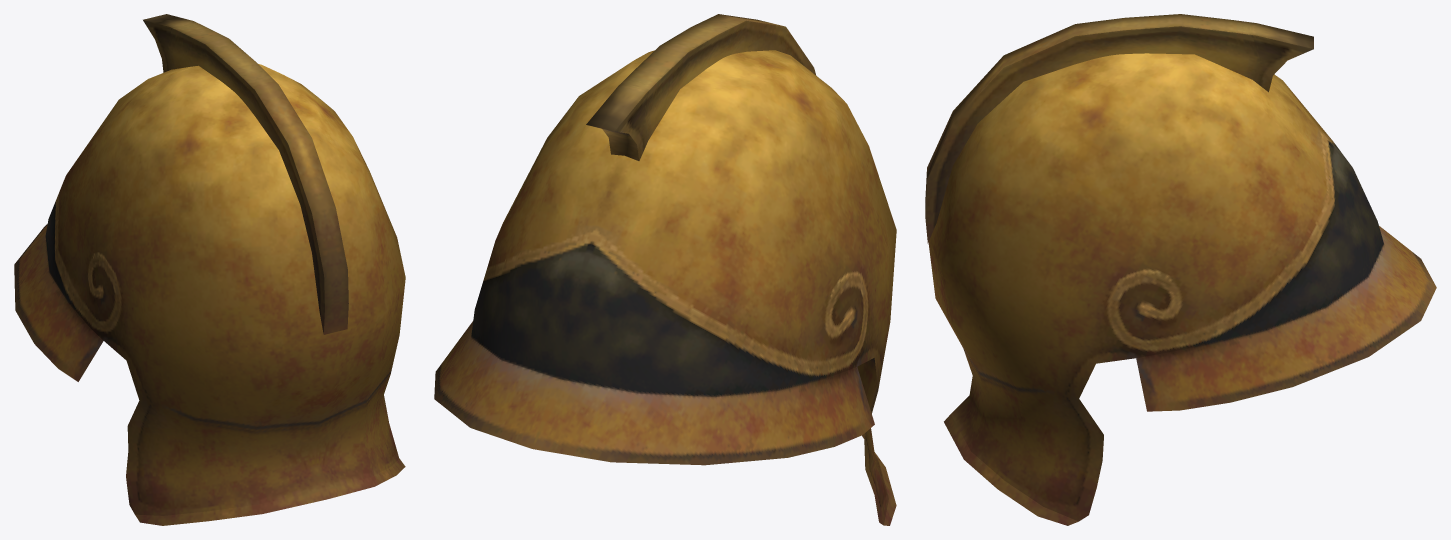
Rendered from helm_hele_thracian_b6.glb.
The picture shows the model from 3 angles, left to right: view 1: azimuth 30°, elevation 25°; view 2: azimuth 150°, elevation 25°; view 3: azimuth 270°, elevation 25°; orthographic projection. The views are drawn at different scales.
Visible parts, largest first — view 1: helm_hele_thracian_b6_part0, helm_hele_thracian_b6_part1; view 2: helm_hele_thracian_b6_part0, helm_hele_thracian_b6_part1; view 3: helm_hele_thracian_b6_part0, helm_hele_thracian_b6_part1.
Part boxes in pixels (x1,y1,x2,y2): helm_hele_thracian_b6_part0: (14, 64, 405, 525); helm_hele_thracian_b6_part1: (143, 14, 348, 334); helm_hele_thracian_b6_part0: (434, 50, 896, 525); helm_hele_thracian_b6_part1: (586, 14, 816, 160); helm_hele_thracian_b6_part0: (928, 53, 1436, 525); helm_hele_thracian_b6_part1: (925, 14, 1313, 243).
Size of the model in its own units: 0.4956 by 0.61 by 0.6456.
2 materials, 2 textured.
